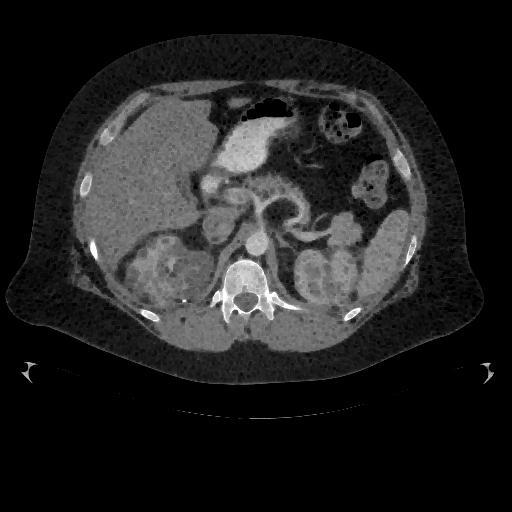Lesion: (132, 273, 182, 308)
